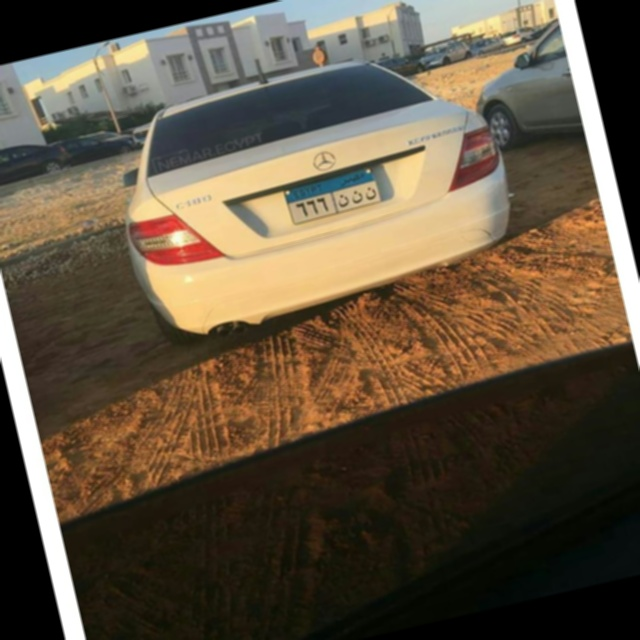License Plate: (279, 163, 387, 229)
